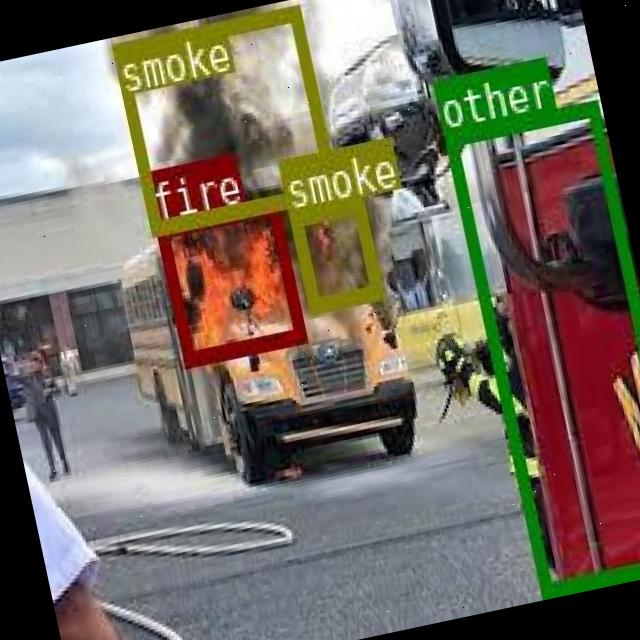fire: (153, 198, 304, 364)
smoke: (111, 4, 336, 234), (288, 194, 382, 312)
